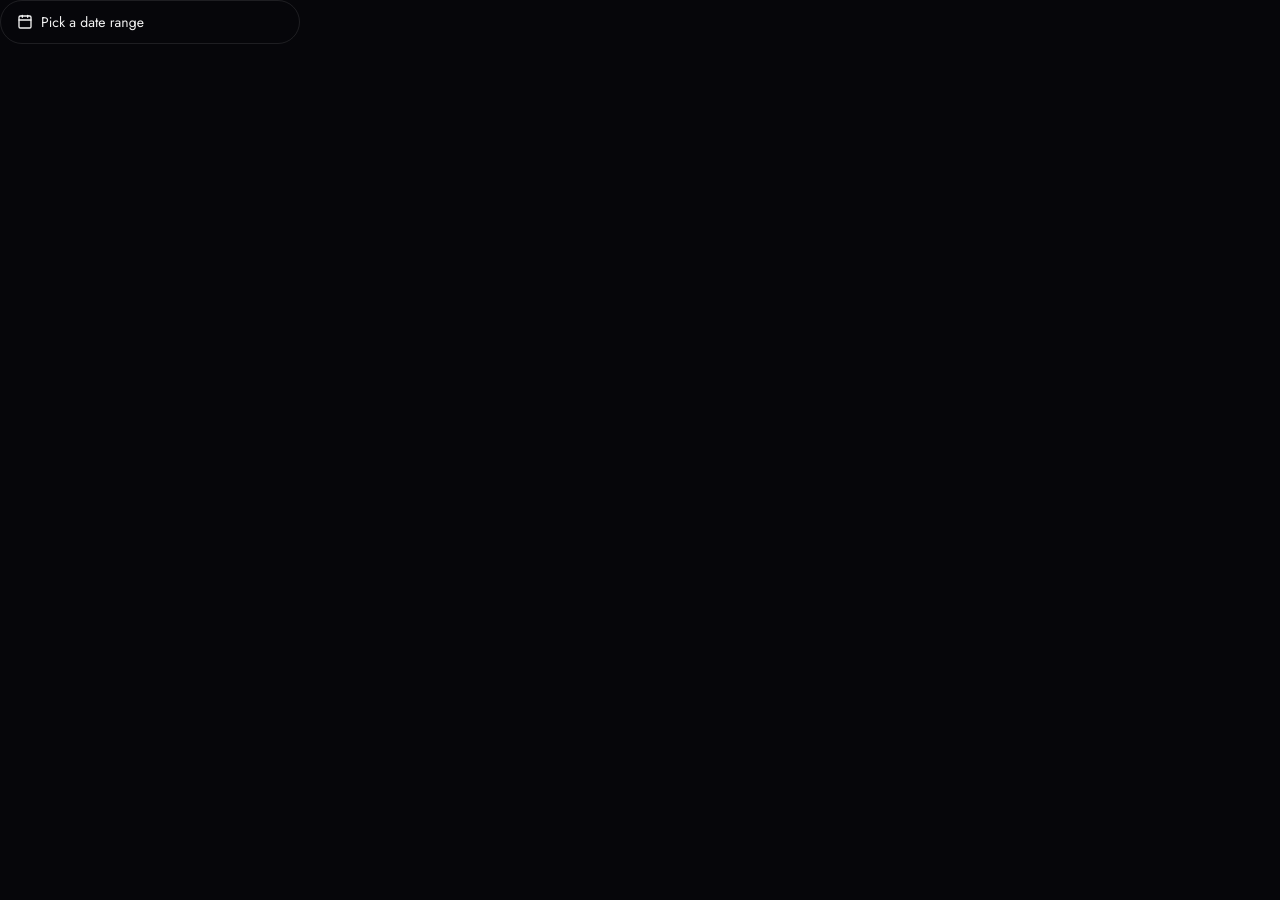
Test: DateRangePicker › selects a range across two clicks, closes the calendar, and updates the trigger label
Later steps or results of the test are not shown.
Click the dropdown at x=92, y=22, box [0,0,300,44]
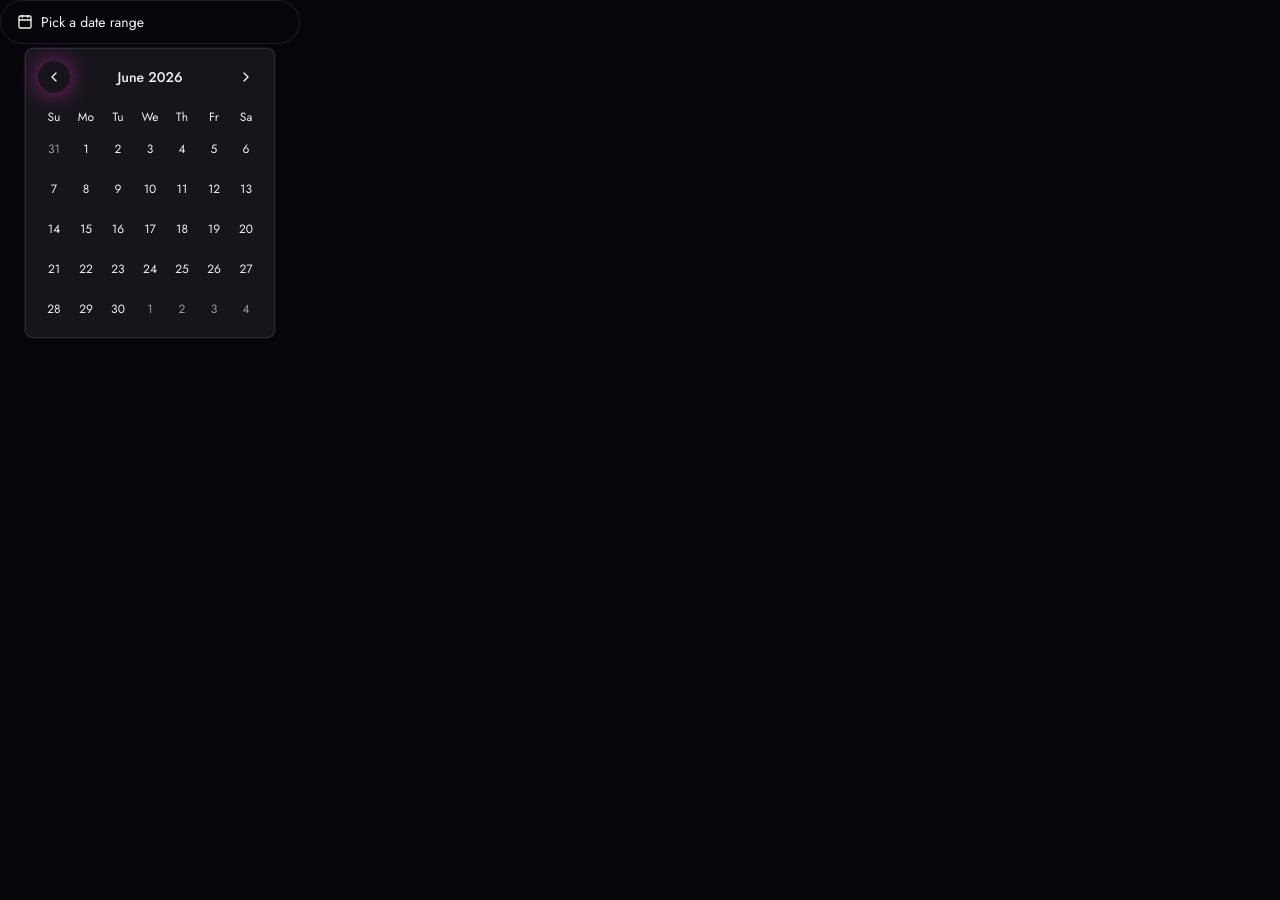
Click the button named "10th" at x=150, y=189, box [134,173,166,205]
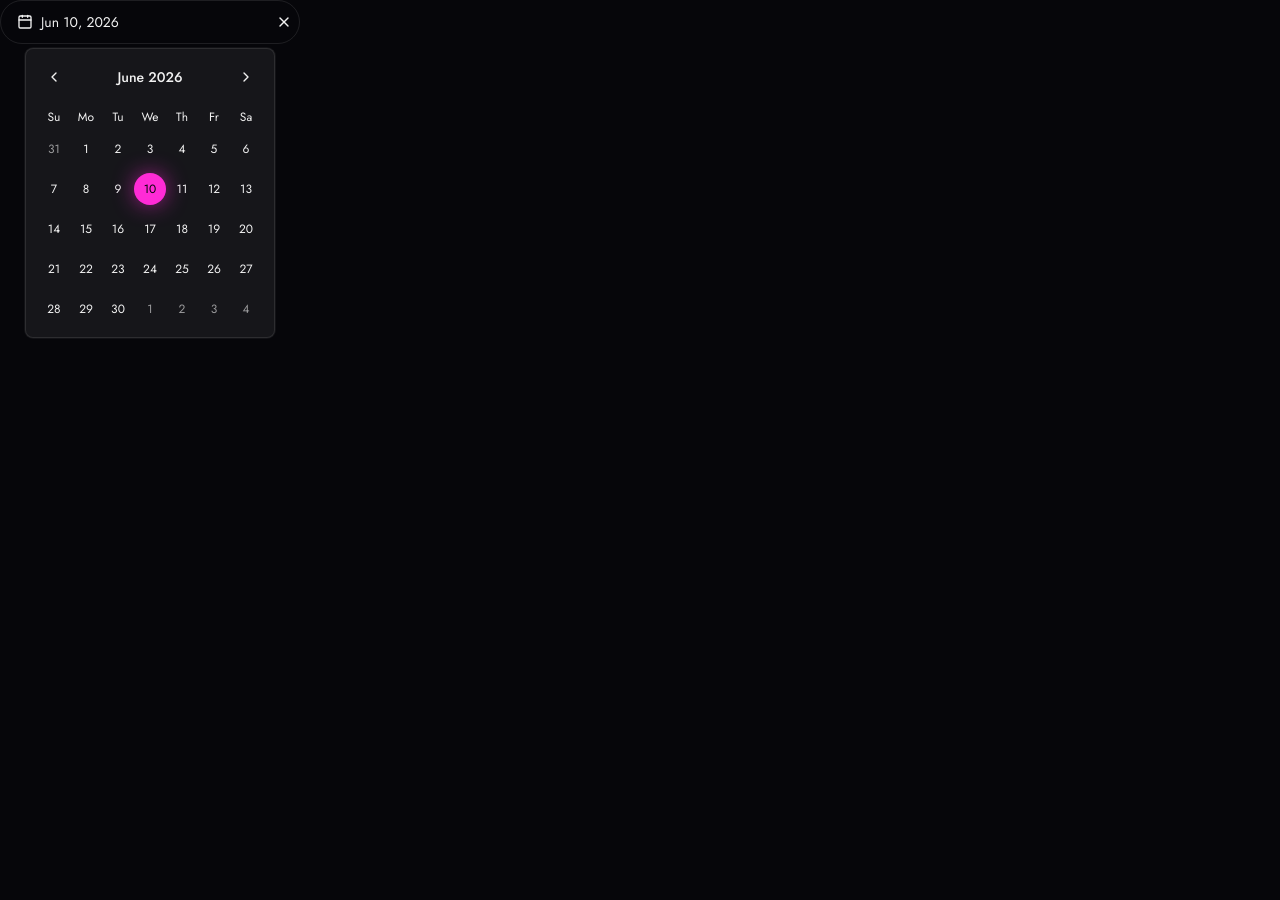
Now the text "June 2026" is shown, box [117,67,182,87]
